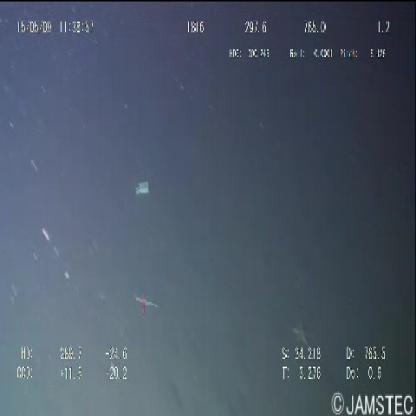Rác: (136, 182, 150, 196)
